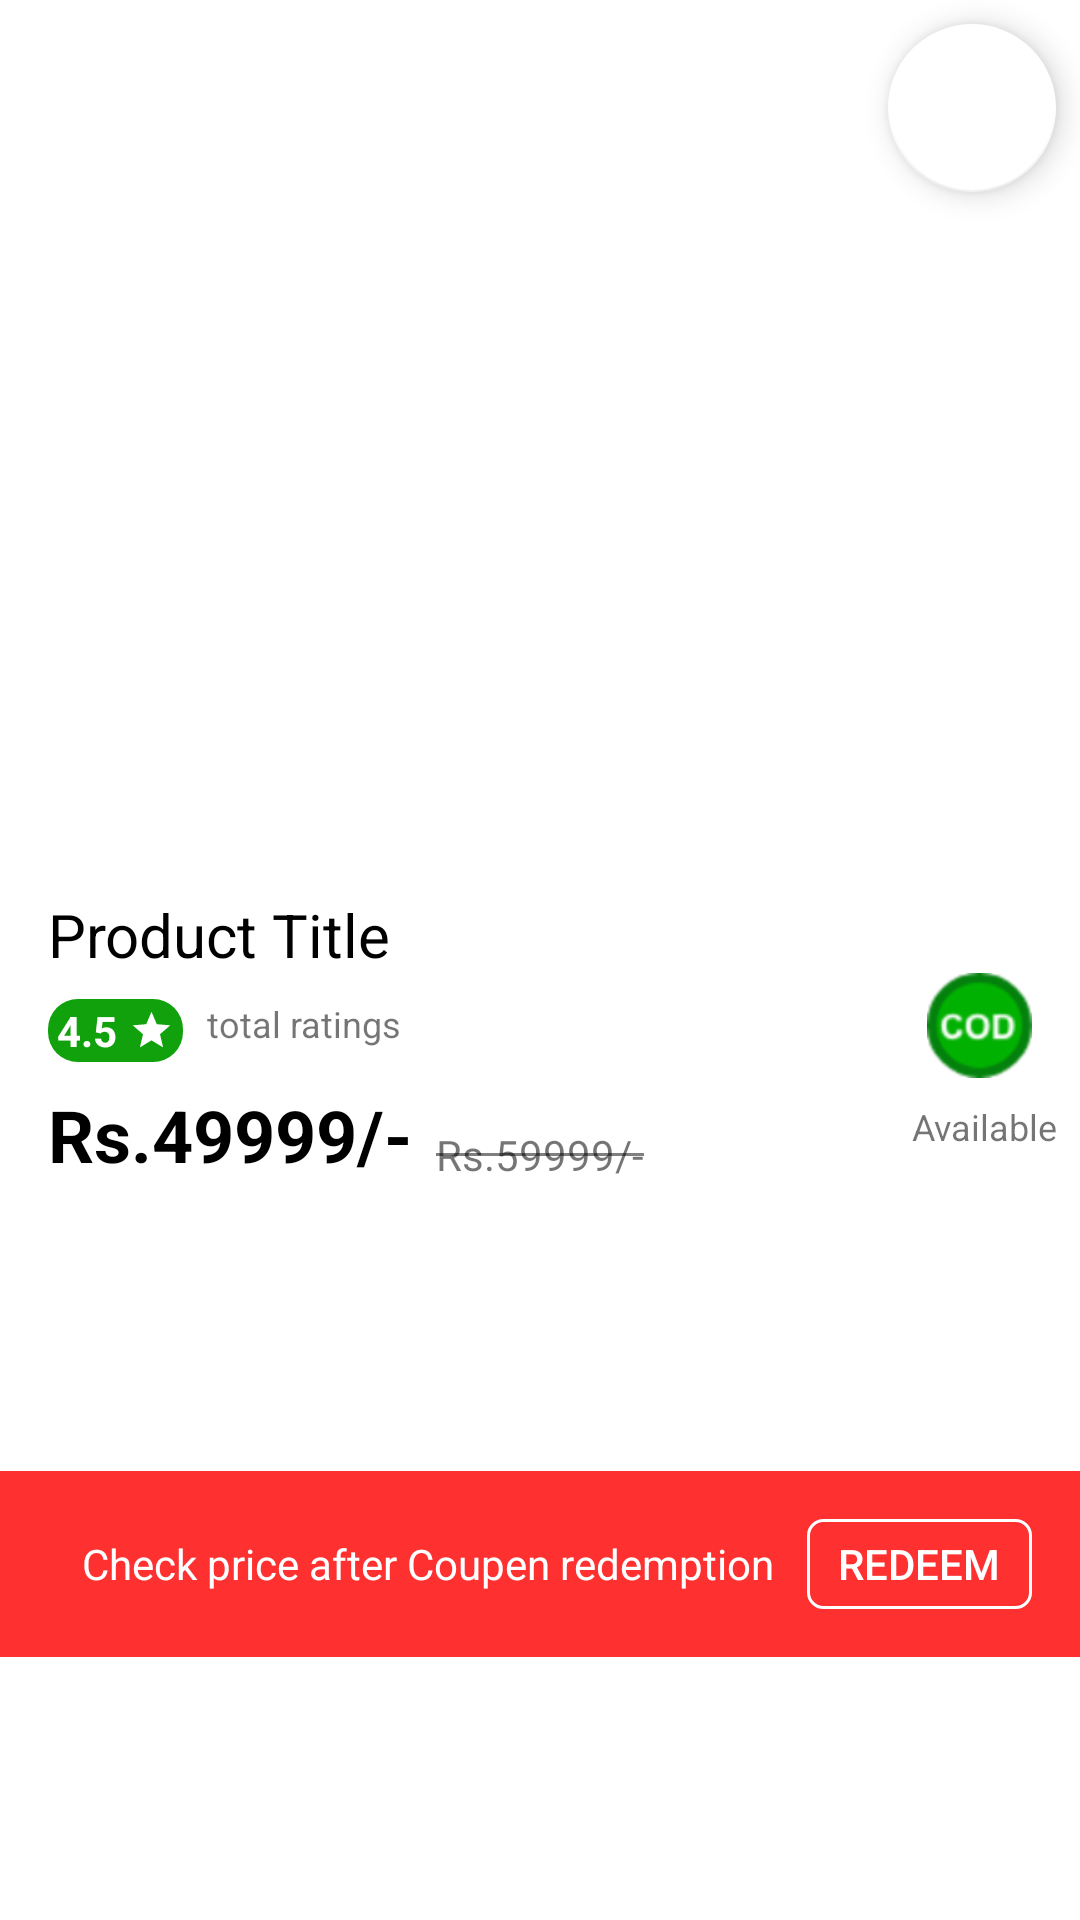

Screen size 1080 x 1920. Icon name, then its box in pixels as [x1=x1, y1=y1, x2=x2, y2=y2]:
star: [x1=133, y1=1012, x2=170, y2=1047]
